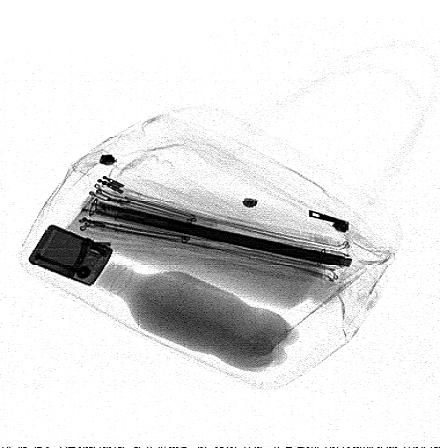Lighter: (27, 224, 115, 288)
